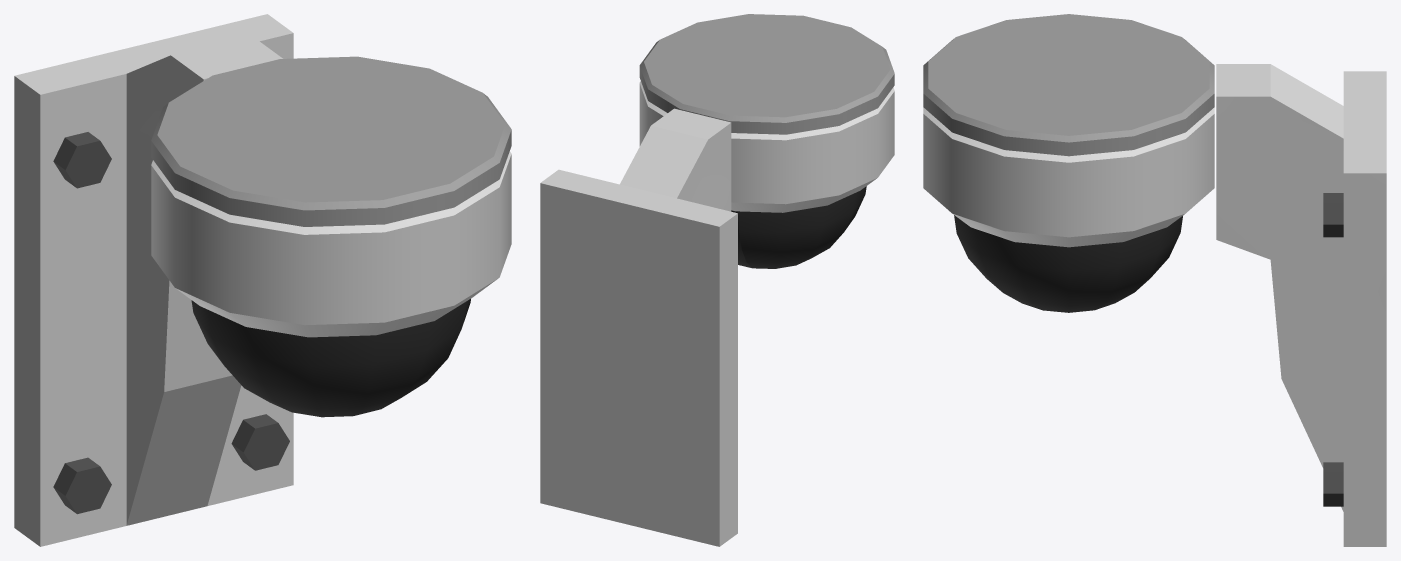
The picture shows the model from 3 angles, left to right: view 1: azimuth 30°, elevation 25°; view 2: azimuth 150°, elevation 25°; view 3: azimuth 270°, elevation 25°; orthographic projection. The views are drawn at different scales.
Parts seen in each view (by area): view 1: Lo-球型监控摄像头_01; view 2: Lo-球型监控摄像头_01; view 3: Lo-球型监控摄像头_01.
Boxes of the visible parts, box(x1,y1,x2,y2) form: Lo-球型监控摄像头_01: box(14, 14, 511, 546); Lo-球型监控摄像头_01: box(540, 14, 894, 546); Lo-球型监控摄像头_01: box(923, 14, 1386, 546).
Size of the model in its own units: 0.207 by 0.3214 by 0.3211.
1 material, 1 textured.
